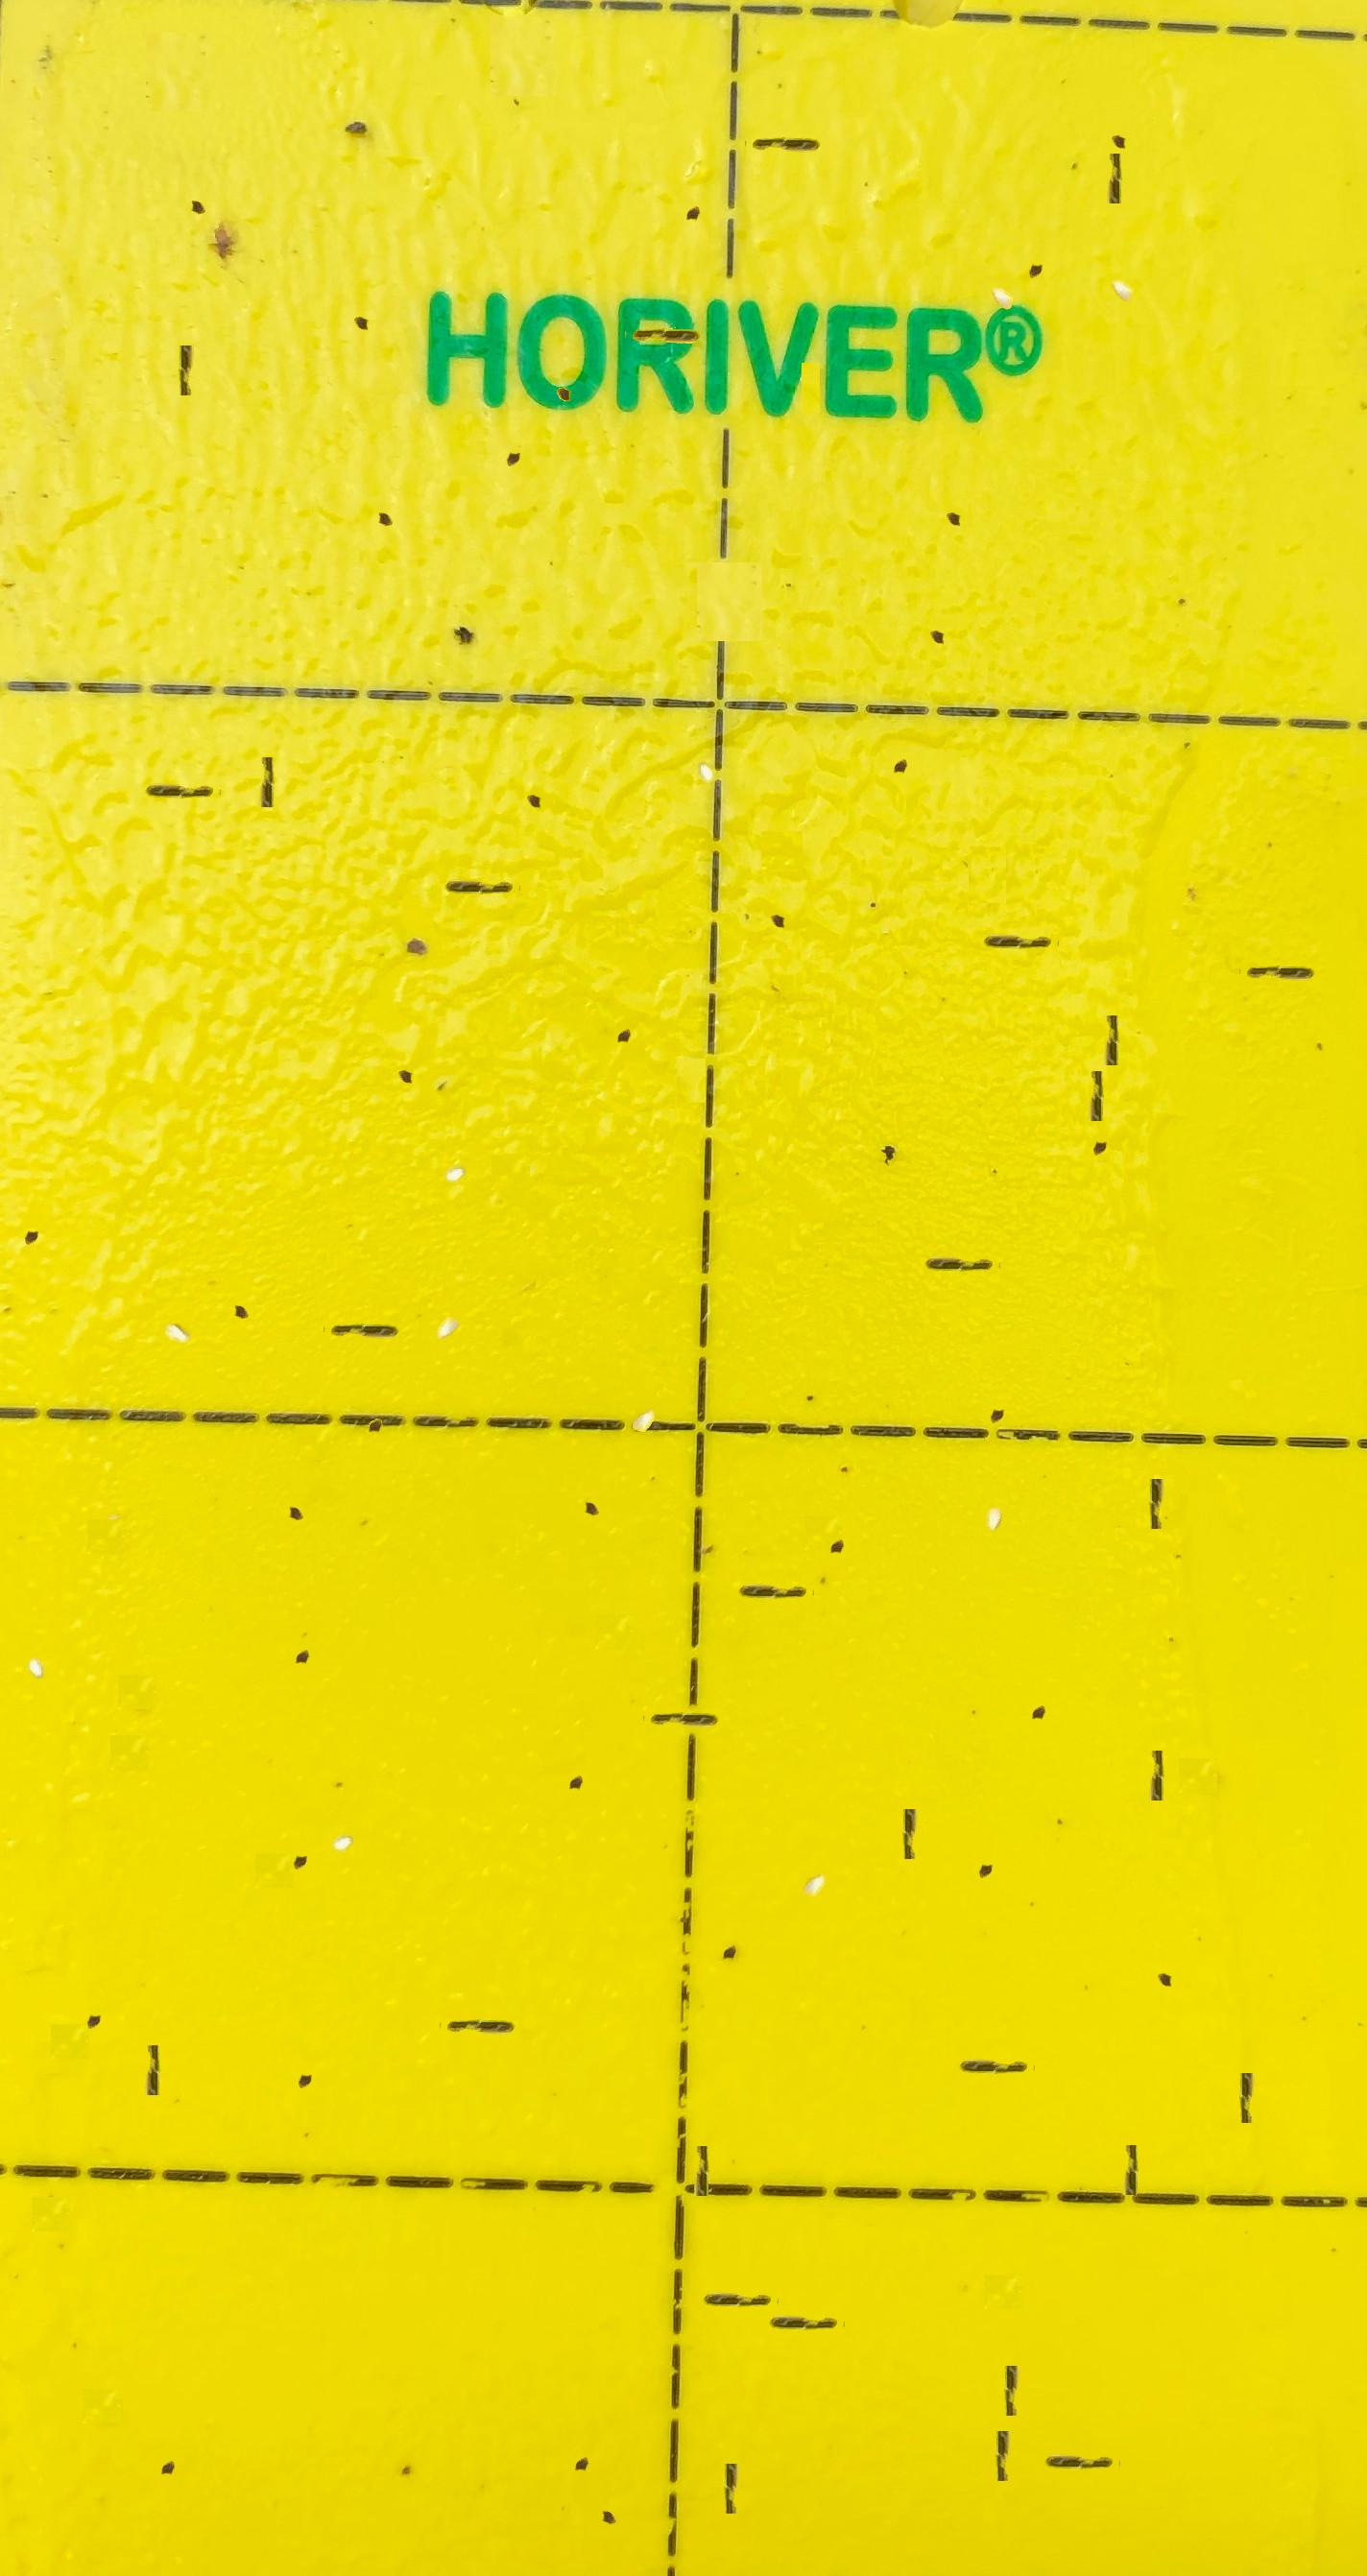white_fly: (320, 1770, 363, 1820), (433, 1102, 476, 1150), (15, 1595, 58, 1642), (685, 702, 726, 750), (793, 1821, 835, 1866), (982, 233, 1024, 278), (153, 1268, 196, 1312), (622, 1358, 665, 1400), (1103, 227, 1144, 269), (428, 1262, 469, 1305), (975, 1462, 1016, 1499)
